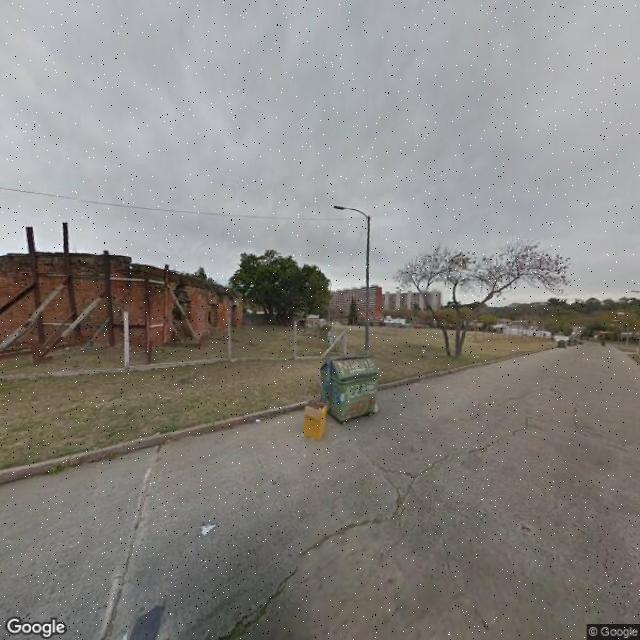garbage container: (314, 347, 392, 429)
